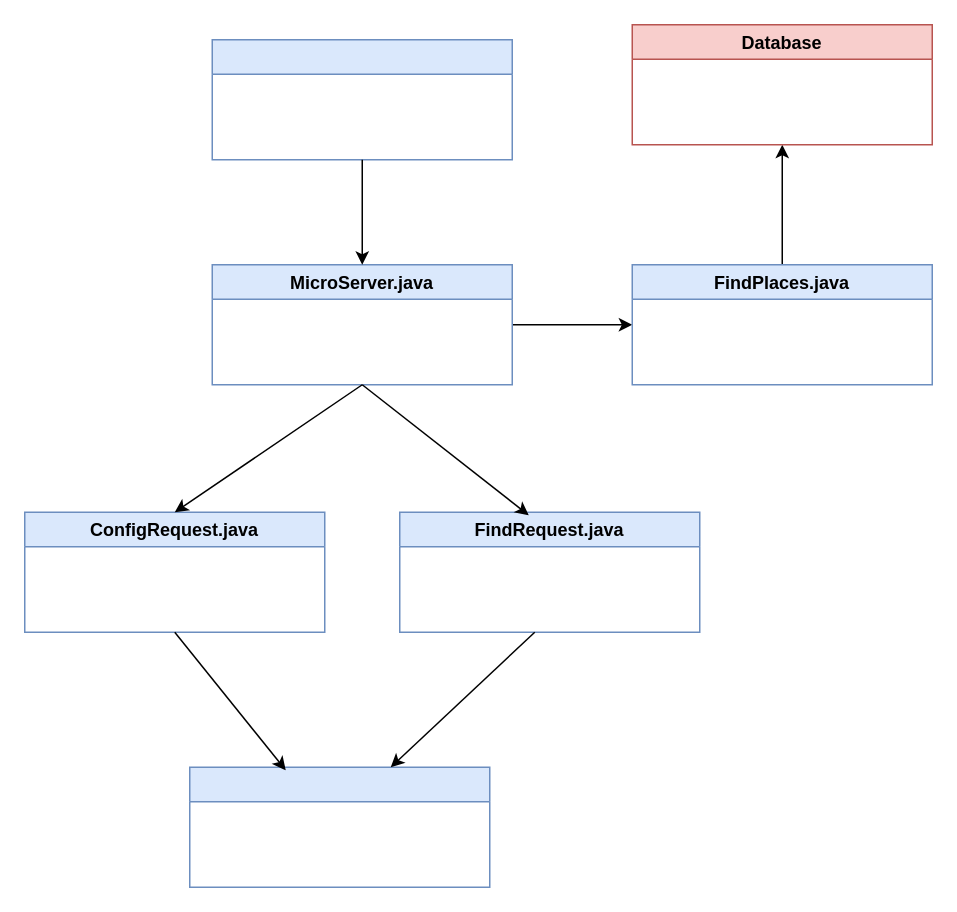
Some shapes in this 957 by 912 pixel diagram are drawn without their labels. The centre of each missing label's shape, as x and y in pixels:
Request.java: point (339, 826)
WebApplication.java: point (361, 99)
